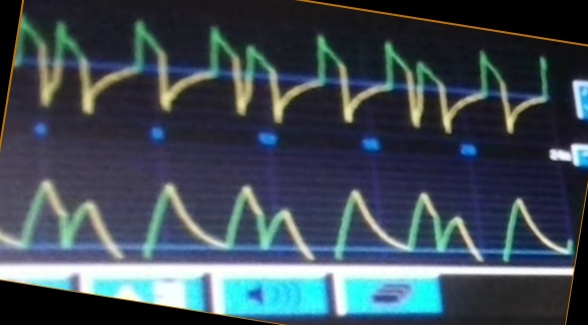Double_Triggering Flow: (20, 18, 455, 133)
Double_Triggering Volume: (3, 176, 483, 260)
